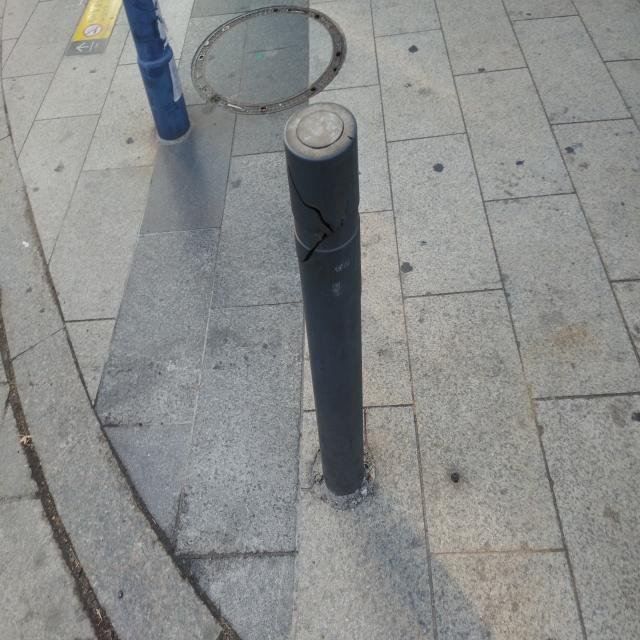pole: (284, 98, 371, 497)
